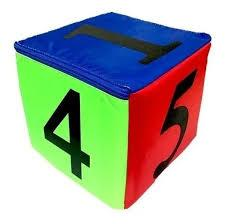cubos: (12, 9, 216, 214)
